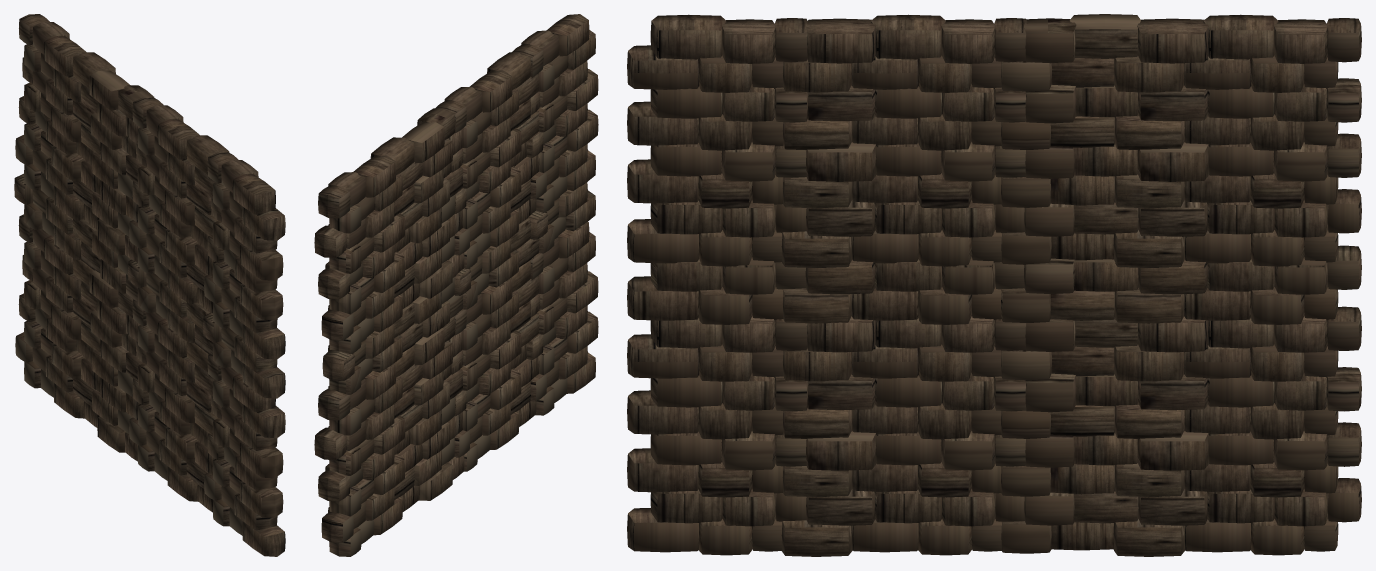
File: W_NEW_WALL.fbx
The picture shows the model from 3 angles, left to right: view 1: azimuth 30°, elevation 25°; view 2: azimuth 150°, elevation 25°; view 3: azimuth 270°, elevation 25°; orthographic projection. The views are drawn at different scales.
Visible parts, largest first — view 1: ParedManew; view 2: ParedManew; view 3: ParedManew.
Part boxes in pixels (bbox=[...]): ParedManew: bbox=[14, 14, 285, 556]; ParedManew: bbox=[314, 14, 598, 556]; ParedManew: bbox=[627, 14, 1361, 556].
Bounding box in the file's own units: 42.95 × 442 × 559.
